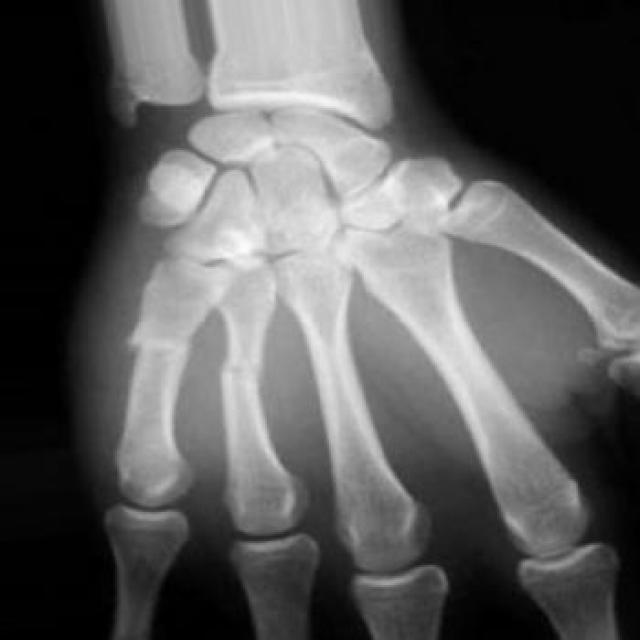Fracture: (117, 333, 208, 375), (210, 348, 272, 388)
